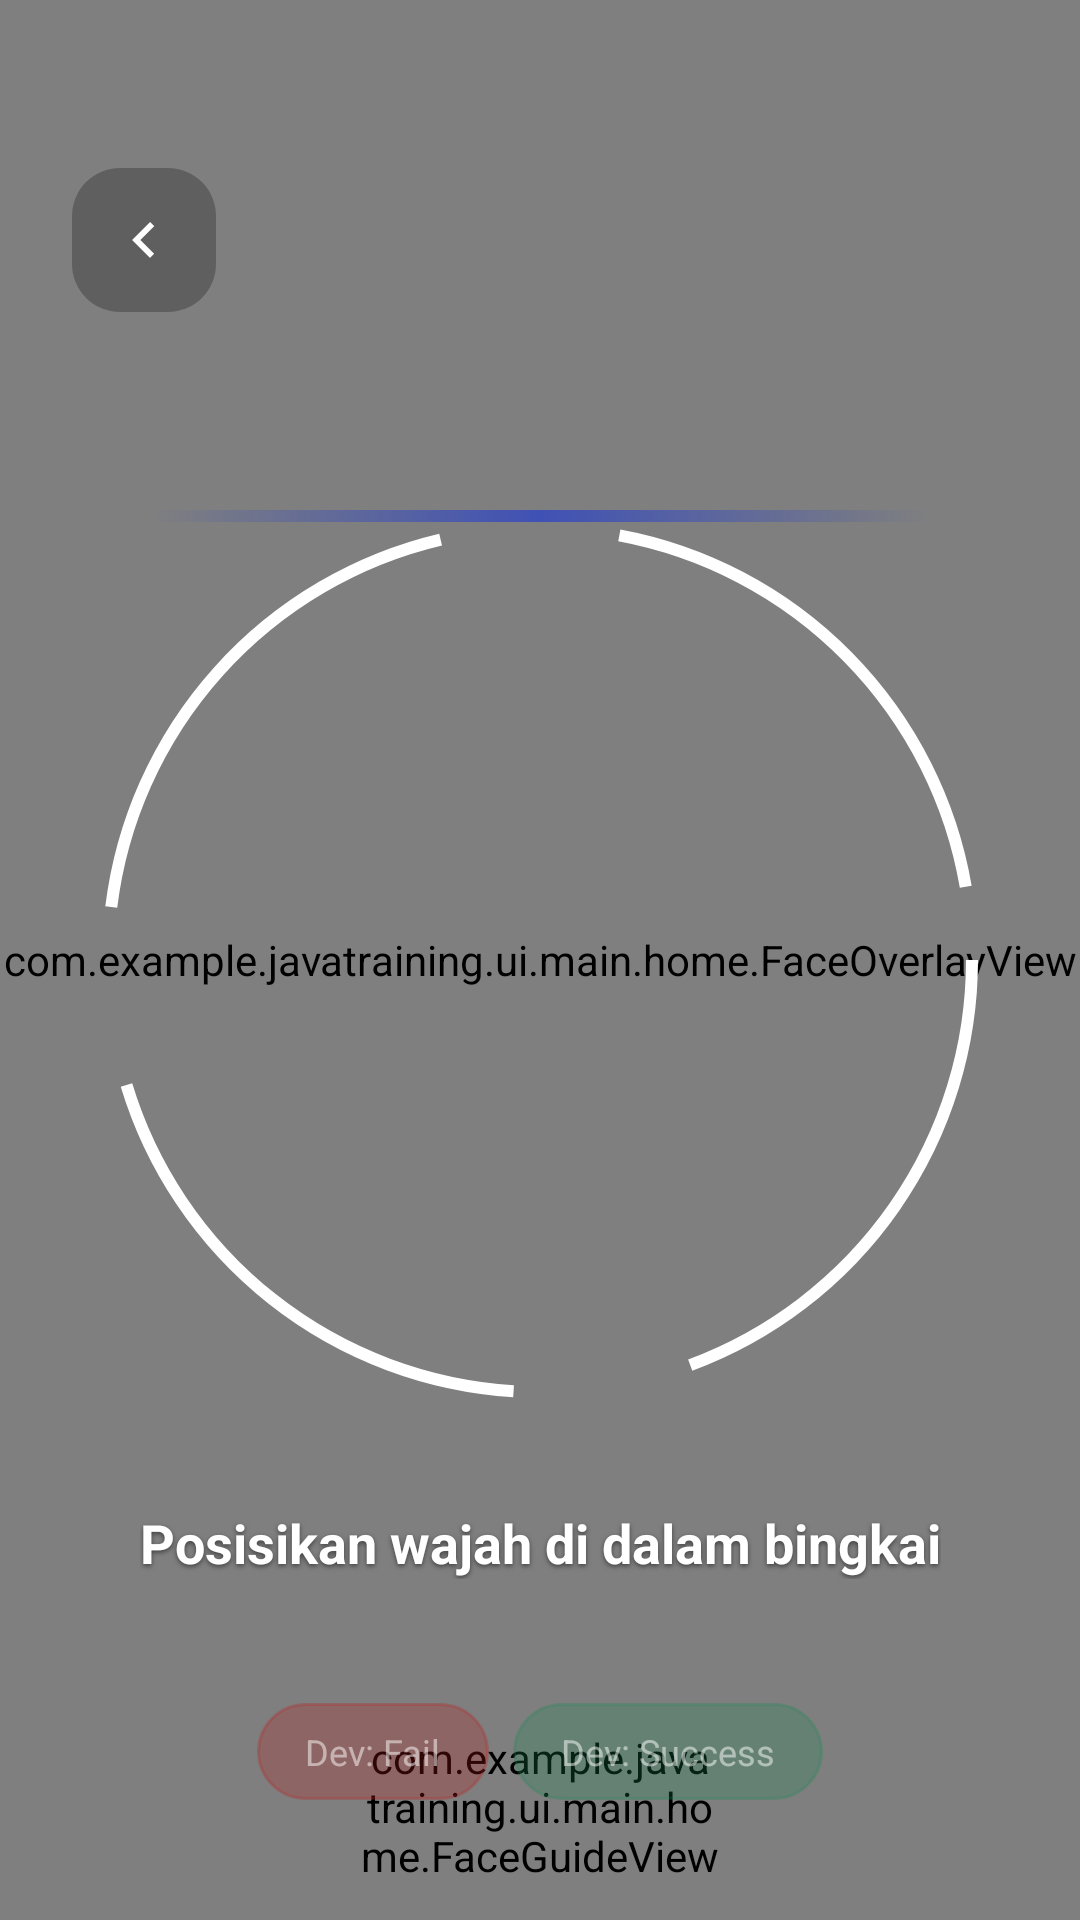

Screen size 1080x1920. Icon name, then its box in pixels as (x1, y1, x2, y2):
arrow back: (132, 222, 154, 258)
